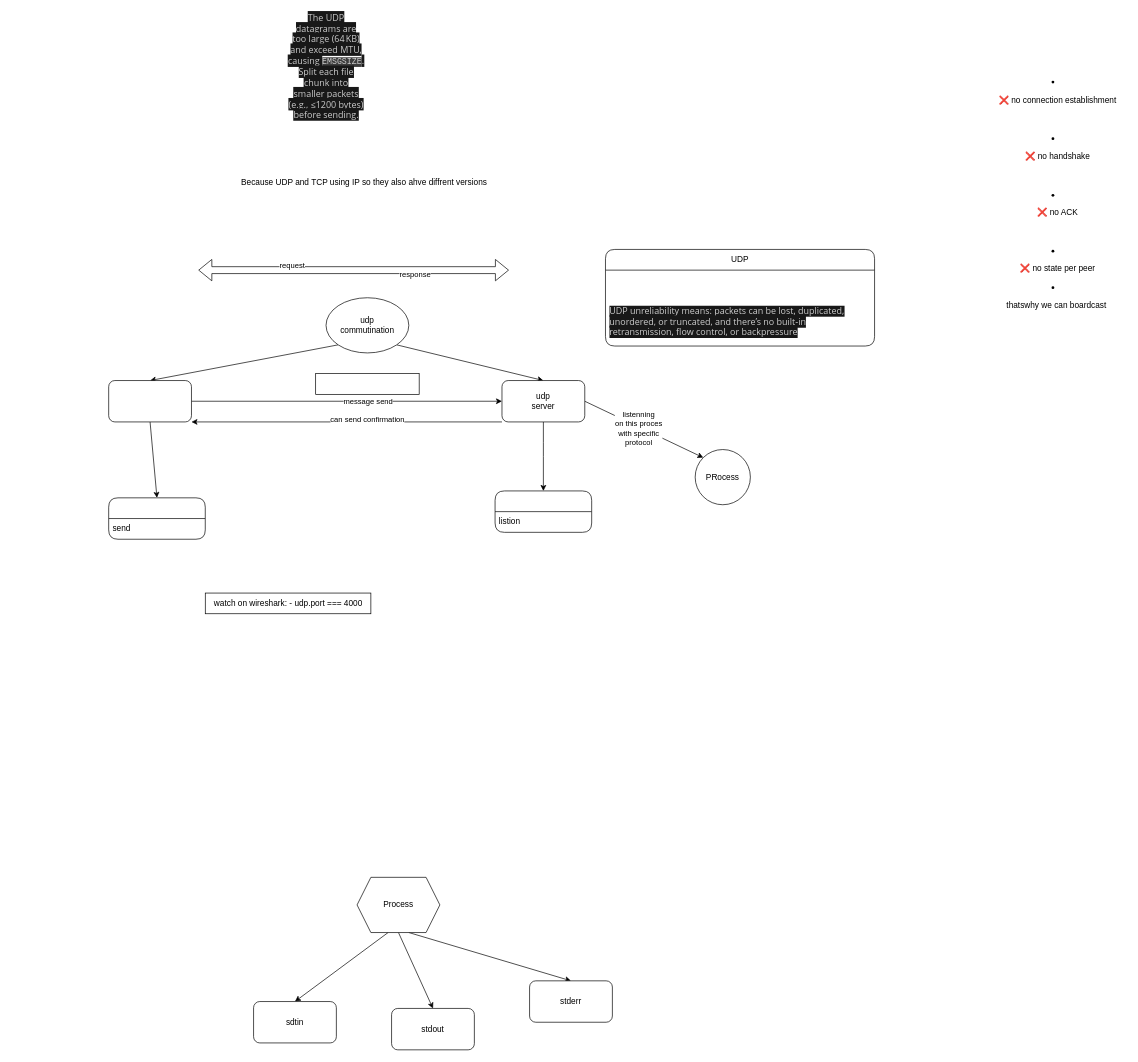
This 1138x1062 diagram has some shape labels left out. The shapes that lost their labels are listed below. From the top down, each one's box as (x1, y1, x2, y2) in pixels, then its label:
(108, 380, 191, 422): udp client
(315, 373, 419, 394): one way communication
(108, 497, 205, 539): client
(494, 490, 592, 532): server
